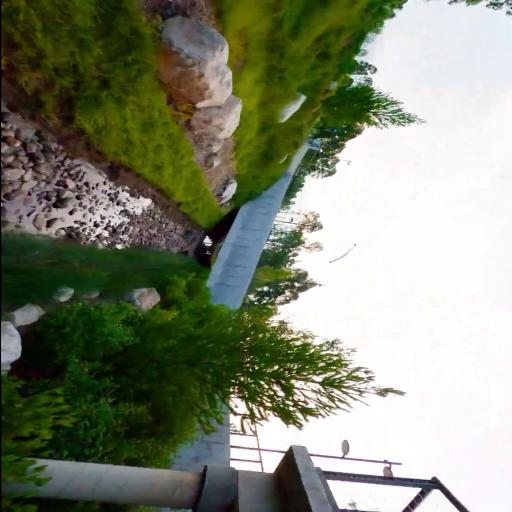uav: (326, 243, 358, 264)
